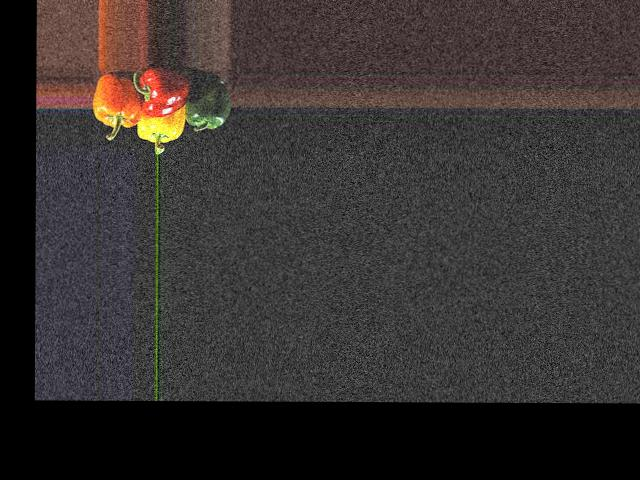bell_pepper: (92, 65, 142, 134)
